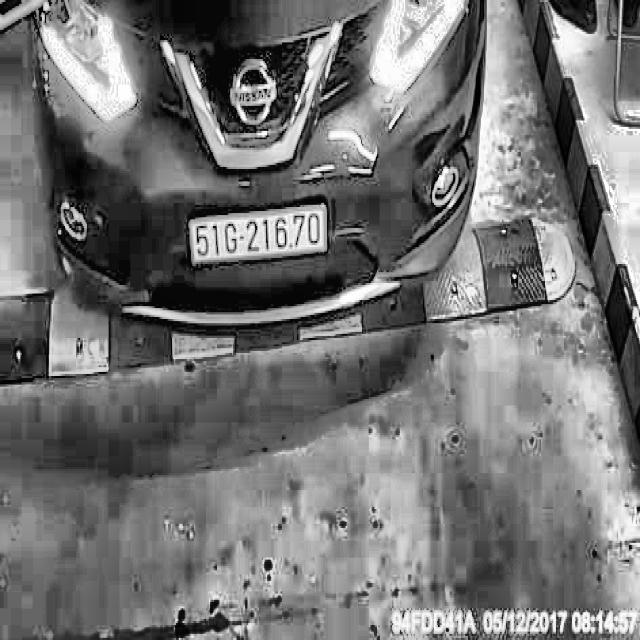plate: (185, 196, 331, 270)
